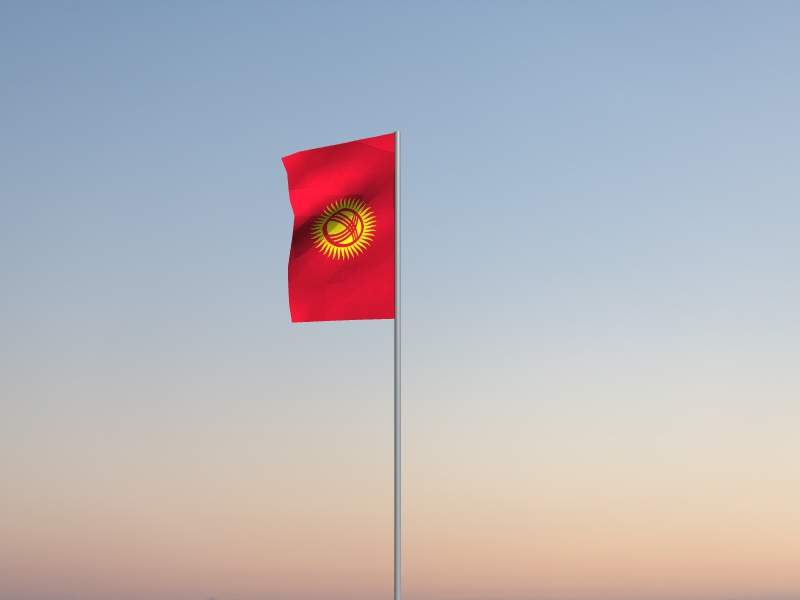kg: (281, 133, 395, 324)
